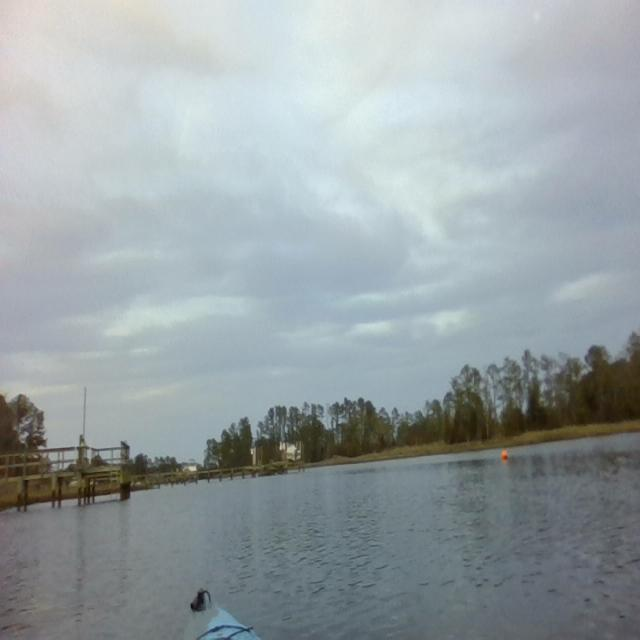Buoy: (500, 443, 509, 467)
